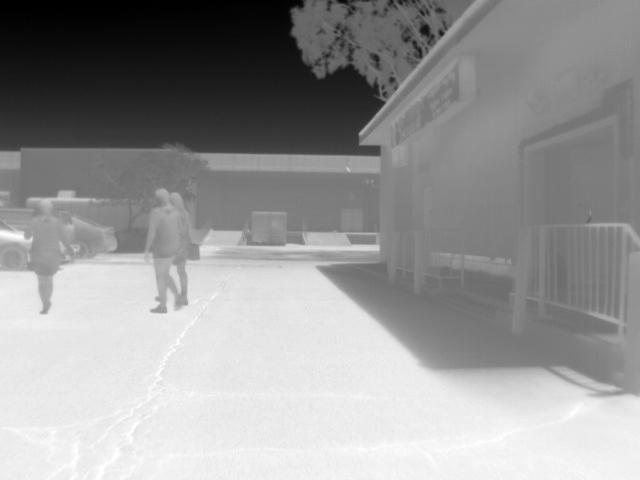car: (62, 210, 117, 261), (0, 220, 33, 268)
person: (144, 189, 178, 313), (24, 200, 60, 315), (170, 191, 200, 307)
